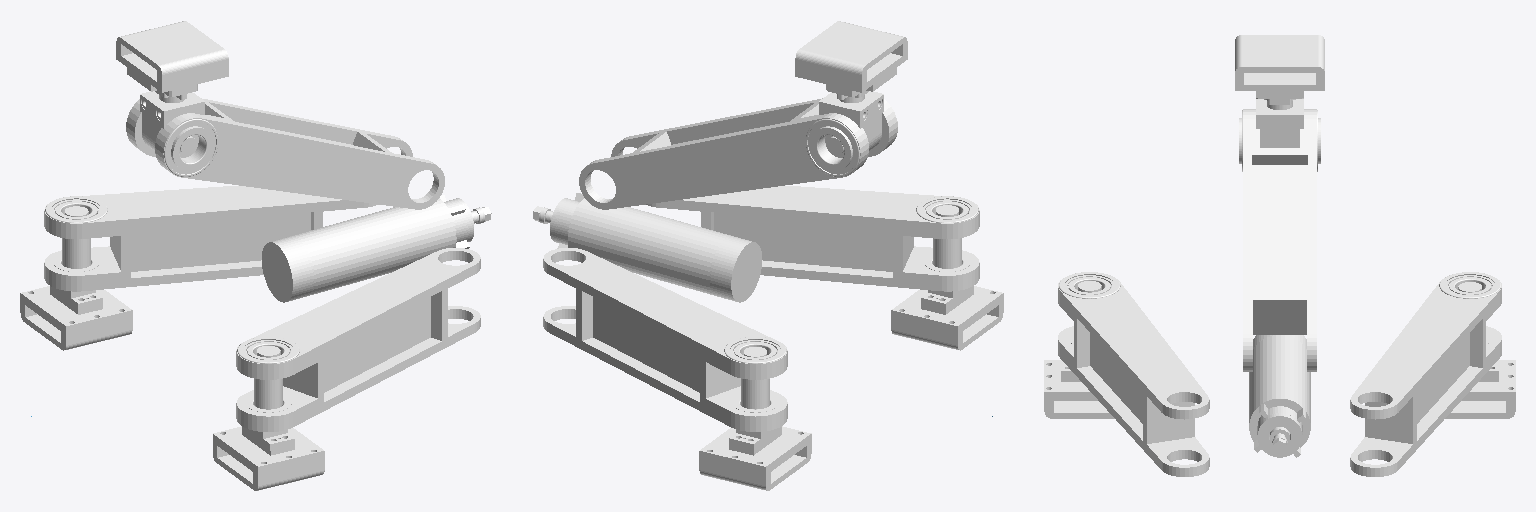
URDF robot description (parabot):
<?xml version="1.0" encoding="utf-8"?>

<robot name="parabot">

<!-- ros_control plugin -->
  <gazebo>
    <plugin name="gazebo_ros_control" filename="libgazebo_ros_control.so" >
      <robotNamespace>/parabot</robotNamespace>
      <robotSimType>gazebo_ros_control/DefaultRobotHWSim</robotSimType>
    </plugin>
  </gazebo>

  <link name="world"/>
  <joint name="fixed" type="fixed">
    <parent link="world"/>
    <child link="base_move"/>
  </joint>

  <link name="base_move">
    <visual>
      <origin rpy="0 0 0" xyz="0 0 0"/>
      <geometry>
        <box size="0.001 0.001 0.001"/>
      </geometry>
    </visual>
  </link>

  <joint name="floating_base" type="fixed">
    <origin rpy="0 0 0" xyz="0 0 0"/>
    <parent link="base_move"/>
    <child link="base"/>
  </joint>

  <link name="base">
    <visual>
      <origin rpy="0 0 0" xyz="0 0 0"/>
      <geometry>
        <mesh
          filename="package://parallel_urdf/meshes/base.STL" />
      </geometry>
      <material
        name="">
        <color
          rgba="1 1 1 0.3" />
      </material>
    </visual>
    <!-- <collision>
      <origin rpy="0 0 0" xyz="0 0 0"/>
      <geometry>
        <mesh
          filename="package://parallel_urdf/meshes/base.STL" />
      </geometry>
    </collision> -->
    <inertial>
      <origin rpy="0 0 0" xyz="0.21966646 -2.724e-05 0.1267953"/>
      <mass value="20.86456"/>
      <inertia ixx="1.4885597" ixy="1.334e-05" ixz="-0.01316559" iyy="1.4676392" iyz="-0.0008014" izz="1.3275302"/>
    </inertial>
  </link>

  <gazebo reference="base">
    <mu1>0.2</mu1>
    <mu2>0.2</mu2>
    <self_collide>1</self_collide>
    <material>Gazebo/DarkGrey</material>
  </gazebo>

  <link name="upbar1">
    <visual>
      <origin rpy="0 0 0" xyz="0 0 0"/>
     <geometry>
        <mesh
          filename="package://parallel_urdf/meshes/upbar1.STL" />
      </geometry>
      <material name="">
        <color rgba="1 1 1 0.5" />
      </material>
    </visual>
    <collision>
      <origin rpy="0 0 0" xyz="0 0 0"/>
       <geometry>
        <mesh
          filename="package://parallel_urdf/meshes/upbar1.STL" />
      </geometry>
    </collision>
    <inertial>
      <origin rpy="0 0 0" xyz="0 0 -0.00882178"/>
      <mass value="0.37810111"/>
      <inertia ixx="0.00028467" ixy="0" ixz="0" iyy="0.00024402" iyz="0" izz="0.00038601"/>
    </inertial>
  </link>

  <joint name="Jointup_1" type="prismatic">
    <parent link="base" />
    <child link="upbar1" />
    <origin xyz="0 0 0.371" rpy="0 0 0" />
    <axis xyz="1 0 0" />
    <dynamics damping = "0.01" friction="0.2"/>
    <limit effort="100" lower="0.04" upper="0.3" velocity="21"/>
  </joint>

  <gazebo reference="upbar1">
    <mu1>0.2</mu1>
    <mu2>0.2</mu2>
    <self_collide>1</self_collide>
    <material>Gazebo/Grey</material>
    <kp value="1000000.0"/>
    <kd value="1.0"/>
  </gazebo>

  <transmission name="up_tran">
    <type>transmission_interface/SimpleTransmission</type>
    <joint name="Jointup_1">
      <hardwareInterface>hardware_interface/EffortJointInterface</hardwareInterface>
    </joint>
    <actuator name="Jointup_motor">
      <hardwareInterface>hardware_interface/EffortJointInterface</hardwareInterface>
      <mechanicalReduction>1</mechanicalReduction>
    </actuator>
  </transmission>

  <link name="upbar2">
    <visual>
      <origin rpy="0 0 0" xyz="0 0 0"/>
     <geometry>
        <mesh
          filename="package://parallel_urdf/meshes/upbar2.STL" />
      </geometry>
      <material name="">
        <color rgba="1 1 1 0.5" />
      </material>
    </visual>
    <!-- <collision>
      <origin rpy="0 0 0" xyz="0 0 0"/>
       <geometry>
        <mesh
          filename="package://parallel_urdf/meshes/upbar2.STL" />
      </geometry>
    </collision> -->
    <inertial>
      <origin rpy="0 0 0" xyz="0.00018008 0.00021347 0.00023533"/>
      <mass value="0.4237848"/>
      <inertia ixx="0.0002353" ixy="0" ixz="-1.31e-06" iyy="0.00021347" iyz="0" izz="0.00018011"/>
    </inertial>
  </link>

  <joint name="Jointup_2" type="revolute">
    <parent link="upbar1" />
    <child link="upbar2" />
    <origin xyz="0 0 -0.086" rpy="0 0 0" />
    <axis xyz="0 0 1" />
    <dynamics damping = "0.01" friction="0.2"/>
    <limit effort="10" lower="-3" upper="3" velocity="0.1"/>
  </joint>

  <gazebo reference="upbar2">
    <mu1>0.2</mu1>
    <mu2>0.2</mu2>
    <self_collide>1</self_collide>
    <material>Gazebo/Grey</material>
    <kp value="1000000.0"/>
    <kd value="1.0"/>
  </gazebo>

  <link name="upbar3">
    <visual>
      <origin rpy="0 0 0" xyz="0 0 0"/>
     <geometry>
        <mesh
          filename="package://parallel_urdf/meshes/upbar3.STL" />
      </geometry>
      <material name="">
        <color rgba="1 1 1 0.5" />
      </material>
    </visual>
    <collision>
      <origin rpy="0 0 0" xyz="0 0 0"/>
       <geometry>
        <mesh
          filename="package://parallel_urdf/meshes/upbar3.STL" />
      </geometry>
    </collision>
    <inertial>
      <origin rpy="0 0 0" xyz="0 0 -0.1108811"/>
      <mass value="2.6862309"/>
      <inertia ixx="0.02470911" ixy="0" ixz="0" iyy="0.02326747" iyz="0" izz="0.00274059"/>
    </inertial>
  </link>

  <gazebo reference="upbar3">
    <mu1>0.2</mu1>
    <mu2>0.2</mu2>
    <self_collide>1</self_collide>
    <material>Gazebo/White</material>
  </gazebo>

  <joint name="Jointup_3" type="revolute">
    <parent link="upbar2" />
    <child link="upbar3" />
    <origin xyz="0 0 0" rpy="0 -1.19716352 0" />        
    <axis xyz="0 1 0" />
    <dynamics damping = "0.01" friction="0.2"/>
    <limit effort="10" lower="-3" upper="3" velocity="0.1"/>
  </joint>

  <link name="upbar4">
    <visual>
      <origin rpy="0 0 0" xyz="0 0 0"/>
     <geometry>
        <mesh
          filename="package://parallel_urdf/meshes/upbar4.STL" />
      </geometry>
      <material name="">
        <color rgba="1 1 1 0.5" />
      </material>
    </visual>
    <!-- <collision>
      <origin rpy="0 0 0" xyz="0 0 0"/>
       <geometry>
        <mesh
          filename="package://parallel_urdf/meshes/upbar4.STL" />
      </geometry>
    </collision> -->
    <inertial>
      <origin rpy="0 0 0" xyz="0.00150775 0.00010572 -0.0430694"/>
      <mass value="1.5499672"/>
      <inertia ixx="0.00507211" ixy="6.6e-07" ixz="0.00010033" iyy="0.00363491" iyz="-1.882e-05" izz="0.00220974"/>
    </inertial>
  </link>

  <gazebo reference="upbar4">
    <mu1>0.2</mu1>
    <mu2>0.2</mu2>
    <self_collide>1</self_collide>
    <material>Gazebo/Grey</material>
  </gazebo>

  <joint name="Jointup_4" type="revolute">
    <parent link="upbar3" />
    <child link="upbar4" />
    <origin xyz="0 0 -0.3" rpy="0 1.1971635 0" />
    <axis xyz="0 1 0" />
    <dynamics damping = "0.01" friction="0.2"/>
    <limit effort="10" lower="-0.9" upper="3" velocity="0.1"/>
  </joint>

  <link name="tool">
    <visual>
      <origin rpy="0 0 0" xyz="0 0 0"/>
     <geometry>
        <mesh
          filename="package://parallel_urdf/meshes/tool.STL" />
      </geometry>
      <material name="">
        <color rgba="1 1 1 0.5" />
      </material>
    </visual>
    <!-- <collision>
      <origin rpy="0 0 0" xyz="0 0 0"/>
       <geometry>
        <mesh
          filename="package://parallel_urdf/meshes/tool.STL" />
      </geometry>
    </collision> -->
    <inertial>
      <origin rpy="0 0 0" xyz="-0.04660746 0 -0.0016316"/>
      <mass value="0.70468795"/>
      <inertia ixx="0.00036431" ixy="0" ixz="-8.992e-05" iyy="0.00293278" iyz="0" izz="0.00292963"/>
    </inertial>
  </link>

  <joint name="tool_fixed" type="fixed">
    <parent link="upbar4" />
    <child link="tool" />
    <origin xyz="0 0 -0.07322" rpy="0 0 0" />
    <axis xyz="1 0 0" />
  </joint>

  <gazebo reference="tool">
    <mu1>0.2</mu1>
    <mu2>0.2</mu2>
    <self_collide>1</self_collide>
    <material>Gazebo/Orange</material>
  </gazebo>

  <link name="leftbar1">
    <visual>
      <origin rpy="0 0 0" xyz="0 0 0"/>
     <geometry>
        <mesh
          filename="package://parallel_urdf/meshes/leftbar1.STL" />
      </geometry>
      <material name="">
        <color rgba="1 1 1 0.5" />
      </material>
    </visual>
    <!-- <collision>
      <origin rpy="0 0 0" xyz="0 0 0"/>
       <geometry>
        <mesh
          filename="package://parallel_urdf/meshes/leftbar1.STL" />
      </geometry>
    </collision> -->
    <inertial>
      <origin rpy="0 0 0" xyz="1.611e-05 0 0.02629524"/>
      <mass value="0.48906947"/>
      <inertia ixx="0.0008291" ixy="-2e-08" ixz="1.6e-07" iyy="0.00074562" iyz="0" izz="0.00039494"/>
    </inertial>
  </link>

  <joint name="Jointleft_1" type="prismatic">
    <parent link="base" />
    <child link="leftbar1" />
    <origin xyz="0 -0.2 0" rpy="0 0 0" />
    <axis xyz="1 0 0" />
    <dynamics damping = "0.01" friction="0.2"/>
    <limit effort="100" lower="0.04" upper="0.3" velocity="21"/>
  </joint>

  <gazebo reference="leftbar1">
    <mu1>0.2</mu1>
    <mu2>0.2</mu2>
    <self_collide>1</self_collide>
    <material>Gazebo/Grey</material>
  </gazebo>

  <transmission name="left_tran">
    <type>transmission_interface/SimpleTransmission</type>
    <joint name="Jointleft_1">
      <hardwareInterface>hardware_interface/EffortJointInterface</hardwareInterface>
    </joint>
    <actuator name="Jointleft_motor">
      <hardwareInterface>hardware_interface/EffortJointInterface</hardwareInterface>
      <mechanicalReduction>1</mechanicalReduction>
    </actuator>
  </transmission>

  <link name="leftbar2">
    <visual>
      <origin rpy="0 0 0" xyz="0 0 0"/>
     <geometry>
        <mesh
          filename="package://parallel_urdf/meshes/leftbar2.STL" />
      </geometry>
      <material name="">
        <color rgba="1 1 1 0.5" />
      </material>
    </visual>
    <collision>
      <origin rpy="0 0 0" xyz="0 0 0"/>
       <geometry>
        <mesh
          filename="package://parallel_urdf/meshes/leftbar2.STL" />
      </geometry>
    </collision>
    <inertial>
      <origin rpy="0 0 0" xyz="0.1108811 0 0.07811728"/>
      <mass value="2.6862309"/>
      <inertia ixx="0.00265916" ixy="0" ixz="3.493e-05" iyy="0.02462768" iyz="0" izz="0.02326747"/>
    </inertial>
  </link>

  <gazebo reference="leftbar2">
    <mu1>0.2</mu1>
    <mu2>0.2</mu2>
    <self_collide>1</self_collide>
    <material>Gazebo/White</material>
  </gazebo>

  <joint name="Jointleft_2" type="revolute">
    <parent link="leftbar1" />
    <child link="leftbar2" />
    <origin xyz="0 0 0.078" rpy="0 0 0.3398015" />
    <axis xyz="0 0 1" />
    <dynamics damping = "0.01" friction="0.2"/>
    <limit effort="10" lower="-3" upper="3" velocity="0.1"/>
  </joint>

  <link name="leftbar3">
    <visual>
      <origin rpy="0 0 0" xyz="0 0 0"/>
     <geometry>
        <mesh
          filename="package://parallel_urdf/meshes/leftbar3.STL" />
      </geometry>
      <material name="">
        <color rgba="1 1 1 0.5" />
      </material>
    </visual>
    <!-- <collision>
      <origin rpy="0 0 0" xyz="0 0 0"/>
       <geometry>
        <mesh
          filename="package://parallel_urdf/meshes/leftbar3.STL" />
      </geometry>
    </collision> -->
    <inertial>
      <origin rpy="0 0 0" xyz="0.00477408 0 -0.00227445"/>
      <mass value="0.75354561"/>
      <inertia ixx="0.00084704" ixy="0" ixz="8.1e-07" iyy="0.00091934" iyz="0" izz="0.00047609"/>
    </inertial>
  </link>

  <gazebo reference="leftbar3">
    <mu1>0.2</mu1>
    <mu2>0.2</mu2>
    <self_collide>1</self_collide>
    <material>Gazebo/Grey</material>
  </gazebo>

  <joint name="Jointleft_3" type="revolute">
    <parent link="leftbar2" />
    <child link="leftbar3" />
    <origin xyz="0.3 0 0" rpy="0 0 1.2309594" />
    <axis xyz="0 0 1" />
    <dynamics damping = "0.01" friction="0.2"/>
    <limit effort="10" lower="-3" upper="3" velocity="0.1"/>
  </joint>

  <gazebo>
    <joint name="Jointleft_4" type="revolute">
      <pose relative_to ="leftbar3">0.1 0 0 0 0 0</pose>
      <parent>leftbar3 </parent>
      <child>upbar4</child>
      <axis>
        <xyz>1 0 0</xyz>
        <limit>
          <lower>-3.14</lower>
          <upper>3.14</upper>
          <effort>20</effort>
          <velocity>30</velocity>
        </limit>
      </axis>
      <dynamic>
        <friction>0.01</friction>
        <damping>0.01</damping>
      </dynamic>
    </joint>
  </gazebo>

  <link name="rightbar1">
    <visual>
      <origin rpy="0 0 0" xyz="0 0 0"/>
     <geometry>
        <mesh
          filename="package://parallel_urdf/meshes/rightbar1.STL" />
      </geometry>
      <material name="">
        <color rgba="1 1 1 0.5" />
      </material>
    </visual>
    <!-- <collision>
      <origin rpy="0 0 0" xyz="0 0 0"/>
       <geometry>
        <mesh
          filename="package://parallel_urdf/meshes/rightbar1.STL" />
      </geometry>
    </collision> -->
    <inertial>
      <origin rpy="0 0 0" xyz="1.611e-05 0 0.02591607"/>
      <mass value="0.48906947"/>
      <inertia ixx="0.0008123" ixy="2e-08" ixz="1.6e-07" iyy="0.00072885" iyz="0" izz="0.00039494"/>
    </inertial>
  </link>

  <joint name="Jointright_1" type="prismatic">
    <parent link="base" />
    <child link="rightbar1" />
    <origin xyz="0 0.2 0" rpy="0 0 0" />
    <axis xyz="1 0 0" />
    <dynamics damping = "0.01" friction="0.2"/>
    <limit effort="100" lower="0.04" upper="0.3" velocity="21"/>
  </joint>

  <gazebo reference="rightbar1">
    <mu1>0.2</mu1>
    <mu2>0.2</mu2>
    <self_collide>1</self_collide>
    <material>Gazebo/Grey</material>
  </gazebo>

  <transmission name="right_tran">
    <type>transmission_interface/SimpleTransmission</type>
    <joint name="Jointright_1">
      <hardwareInterface>hardware_interface/EffortJointInterface</hardwareInterface>
    </joint>
    <actuator name="Jointright_motor">
      <hardwareInterface>hardware_interface/EffortJointInterface</hardwareInterface>
      <mechanicalReduction>1</mechanicalReduction>
    </actuator>
  </transmission>


  <link name="rightbar2">
    <visual>
      <origin rpy="0 0 0" xyz="0 0 0"/>
     <geometry>
        <mesh
          filename="package://parallel_urdf/meshes/rightbar2.STL" />
      </geometry>
      <material name="">
        <color rgba="1 1 1 0.5" />
      </material>
    </visual>
    <collision>
      <origin rpy="0 0 0" xyz="0 0 0"/>
       <geometry>
        <mesh
          filename="package://parallel_urdf/meshes/rightbar2.STL" />
      </geometry>
    </collision>
    <inertial>
      <origin rpy="0 0 0" xyz="0.1108811 0 0.00011728"/>
      <mass value="2.6862309"/>
      <inertia ixx="0.00265916" ixy="0" ixz="3.493e-05" iyy="0.02462768" iyz="0" izz="0.02326747"/>
    </inertial>
  </link>

  <gazebo reference="rightbar2">
    <mu1>0.2</mu1>
    <mu2>0.2</mu2>
    <self_collide>1</self_collide>
    <material>Gazebo/White</material>
  </gazebo>

  <joint name="Jointright_2" type="revolute">
    <parent link="rightbar1" />
    <child link="rightbar2" />
    <origin xyz="0 0 0.078" rpy="0 0 -0.3398015" />
    <axis xyz="0 0 1" />
    <dynamics damping = "0.01" friction="0.2"/>
    <limit effort="10" lower="-3" upper="3" velocity="0.1"/>
  </joint>

  <link name="rightbar3">
    <visual>
      <origin rpy="0 0 0" xyz="0 0 0"/>
     <geometry>
        <mesh
          filename="package://parallel_urdf/meshes/rightbar3.STL" />
      </geometry>
      <material name="">
        <color rgba="1 1 1 0.5" />
      </material>
    </visual>
    <!-- <collision>
      <origin rpy="0 0 0" xyz="0 0 0"/>
       <geometry>
        <mesh
          filename="package://parallel_urdf/meshes/rightbar3.STL" />
      </geometry>
    </collision> -->
    <inertial>
      <origin rpy="0 0 0" xyz="0.00477408 0 -0.00272555"/>
      <mass value="0.75354561"/>
      <inertia ixx="0.00084704" ixy="0" ixz="-8.1e-07" iyy="0.00091934" iyz="0" izz="0.00047609"/>
    </inertial>
  </link>

  <gazebo reference="rightbar3">
    <mu1>0.2</mu1>
    <mu2>0.2</mu2>
    <self_collide>1</self_collide>
    <material>Gazebo/Grey</material>
  </gazebo>

  <joint name="Jointright_3" type="revolute">
    <parent link="rightbar2" />
    <child link="rightbar3" />
    <origin xyz="0.3 0 0" rpy="0 0 -1.2309594" />
    <axis xyz="0 0 1" />
    <dynamics damping = "0.01" friction="0.2"/>
    <limit effort="10" lower="-3" upper="3" velocity="0.1"/>
  </joint>

  <gazebo>
    <joint name="Jointright_4" type="revolute">
      <pose relative_to ="rightbar3">0.1 0 0 0 0 0</pose>
      <parent>rightbar3 </parent>
      <child>upbar4</child>
      <axis>
        <xyz>1 0 0</xyz>
        <limit>
          <lower>-3.14</lower>
          <upper>3.14</upper>
          <effort>20</effort>
          <velocity>30</velocity>
        </limit>
      </axis>
      <dynamic>
        <friction>0.01</friction>
        <damping>0.01</damping>
      </dynamic>
    </joint>
  </gazebo>

  <!-- Show the trajectory of the end of tool. -->
  <!-- <gazebo>
    <plugin filename="libLinkPlot3DPlugin.so" name="3dplot">
      <frequency>1000</frequency>
      <plot>
        <link>tool</link>
        <pose>0.15 0 0 0 0 0</pose>
        <material>Gazebo/Red</material>
      </plot>
    </plugin>
  </gazebo> -->

  
 

</robot>

--- Facts derived from the render (not from the file) ---
The picture shows the robot from 3 angles, left to right: view 1: azimuth 30°, elevation 25°; view 2: azimuth 150°, elevation 25°; view 3: azimuth 270°, elevation 25°; orthographic projection.
Robot: parabot — 14 links, 13 joints (7 revolute, 3 prismatic, 3 fixed); root link world; default pose: joints at zero except 3 at the middle of their limits (Jointup_1 = 0.17, Jointleft_1 = 0.17, Jointright_1 = 0.17).
Visible links, largest first — view 1: leftbar2, rightbar2, upbar3, tool, leftbar1, rightbar1, upbar1, upbar2; view 2: rightbar2, leftbar2, upbar3, tool, leftbar1, rightbar1, upbar1, upbar2; view 3: rightbar2, leftbar2, upbar3, tool, upbar1, leftbar1, rightbar1, upbar2.
Link boxes in pixels (<box>): leftbar2: <box>236,248,480,431</box>; rightbar2: <box>44,185,377,291</box>; upbar3: <box>126,98,444,209</box>; tool: <box>262,195,491,302</box>; leftbar1: <box>213,346,324,490</box>; rightbar1: <box>20,206,132,350</box>; upbar1: <box>116,21,228,102</box>; upbar2: <box>140,91,204,157</box>; rightbar2: <box>543,248,787,431</box>; leftbar2: <box>646,185,979,291</box>; upbar3: <box>579,98,897,209</box>; tool: <box>533,193,761,302</box>; leftbar1: <box>891,205,1003,350</box>; rightbar1: <box>699,347,811,490</box>; upbar1: <box>795,21,907,102</box>; upbar2: <box>819,91,883,157</box>; rightbar2: <box>1350,272,1501,476</box>; leftbar2: <box>1058,272,1209,476</box>; upbar3: <box>1239,109,1320,371</box>; tool: <box>1249,335,1310,457</box>; upbar1: <box>1235,35,1324,109</box>; leftbar1: <box>1044,281,1114,418</box>; rightbar1: <box>1445,282,1515,418</box>; upbar2: <box>1256,99,1303,147</box>.
Bounding box of the posed robot: 0.55 × 0.495 × 0.408 m (x, y, z).
8 mesh visuals loaded from 12 distinct referenced files (8 binary STL); not drawn: 4 (reference not matched to a file when rendering).